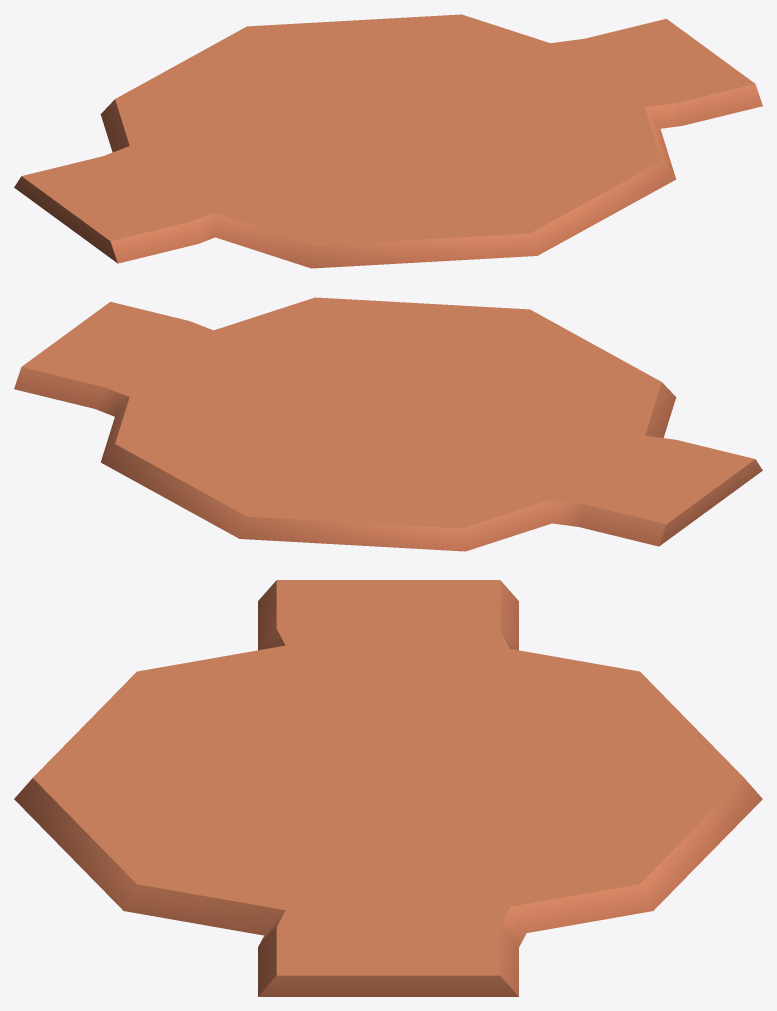
The model's file is kenney-hexagon-path-square.glb.
The picture shows the model from 3 angles, top to bottom: view 1: azimuth 30°, elevation 25°; view 2: azimuth 150°, elevation 25°; view 3: azimuth 270°, elevation 25°; orthographic projection. The views are drawn at different scales.
Visible parts, largest first — view 1: path_square; view 2: path_square; view 3: path_square.
Part boxes in pixels (bbox=[...]): path_square: bbox=[14, 14, 762, 268]; path_square: bbox=[14, 297, 762, 551]; path_square: bbox=[14, 580, 762, 996].
Size of the model in its own units: 1 by 0.025 by 0.8.
1 material, 1 textured.
